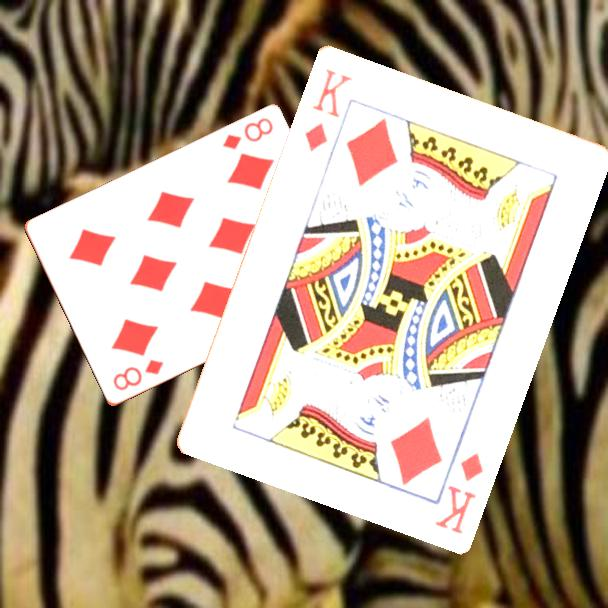d08: (218, 114, 276, 153), (109, 356, 166, 394)
d13: (430, 448, 486, 537), (300, 64, 354, 154)
